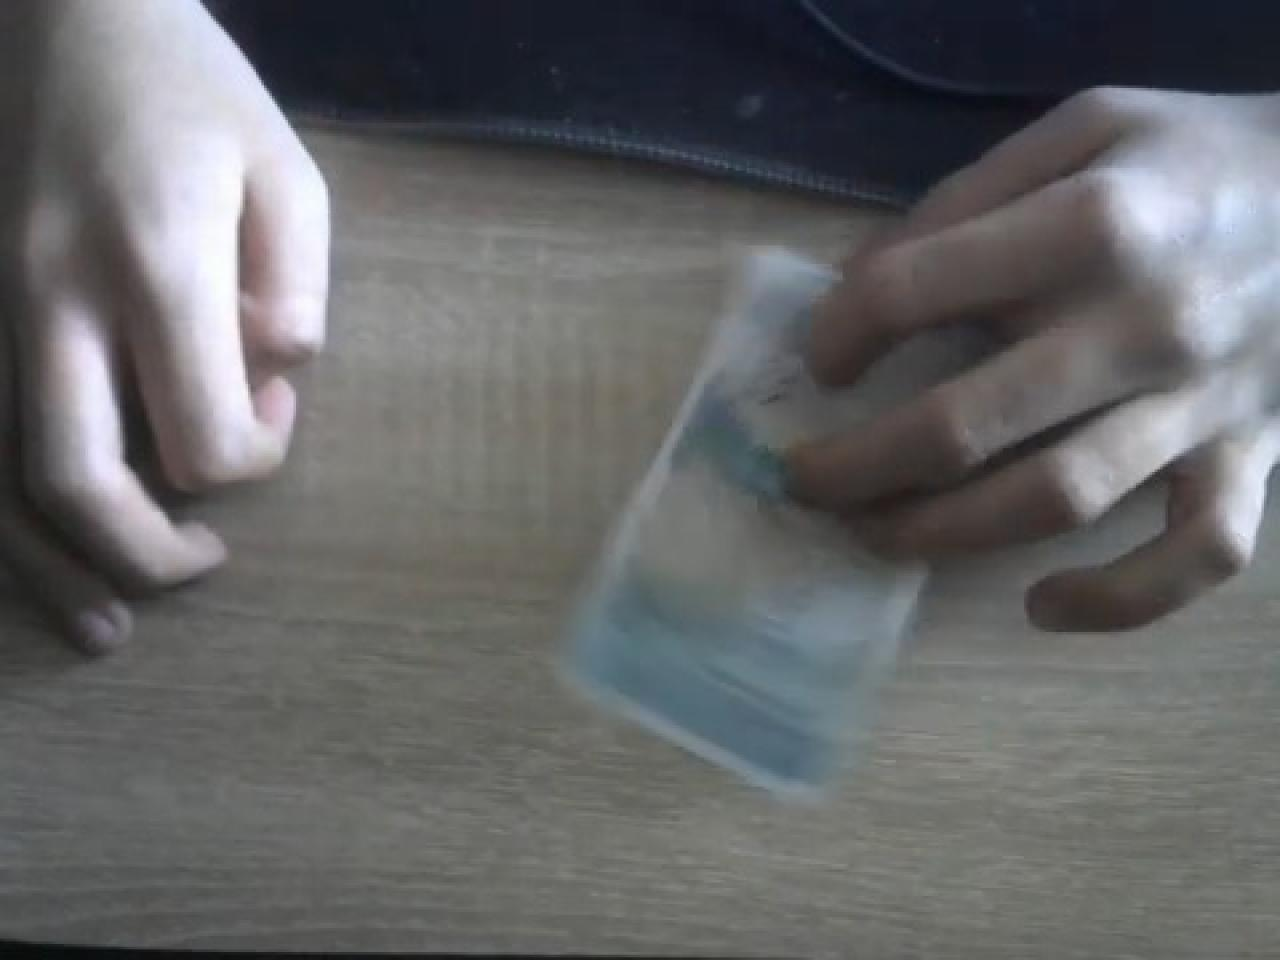20leva: (554, 94, 1280, 800)
